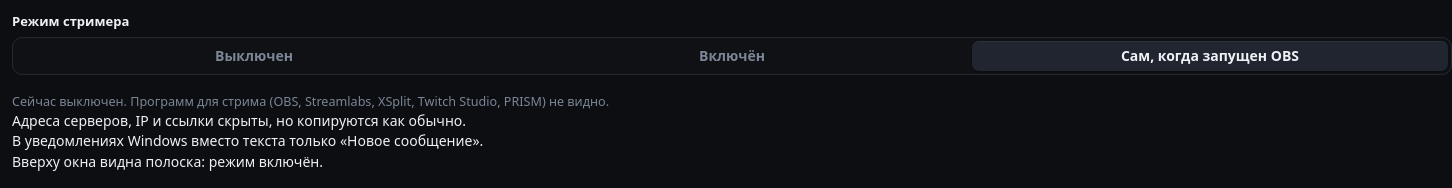
Scenario: streamer mode › the settings pick the mode and say whether OBS is seen
Expected: the text "Сейчас выключен" is shown, 12,93 -> 127,110
Click the button "Включён": (732, 56) 494,41 -> 970,71
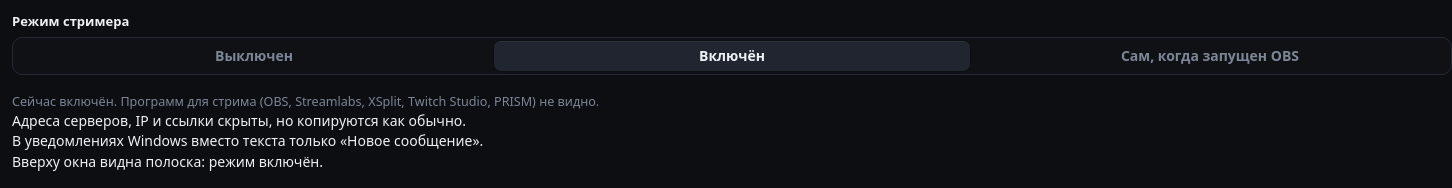
Expected: the text "Сейчас включён" is shown, 12,93 -> 117,110
